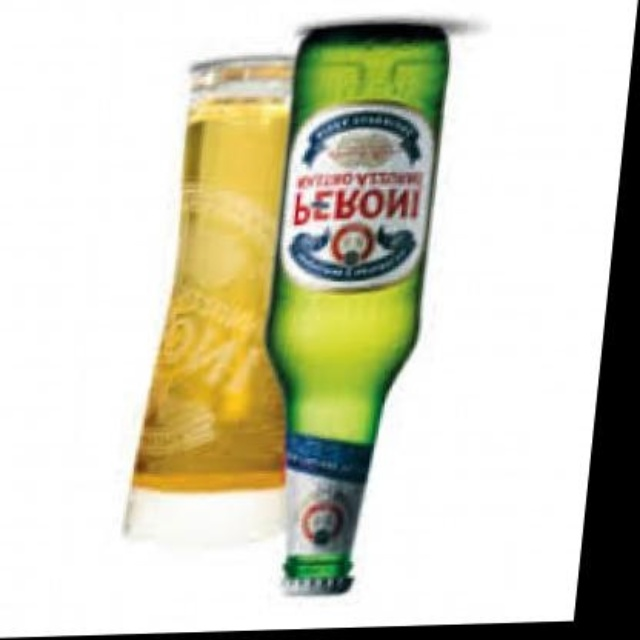trash: (268, 23, 446, 592), (125, 55, 291, 542)
